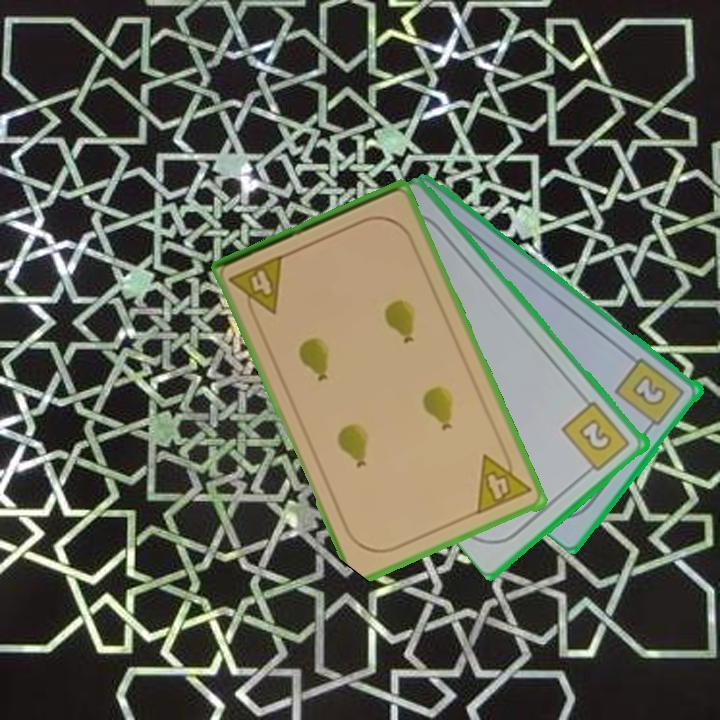2b: (612, 354, 689, 435), (559, 397, 634, 478)
4p: (472, 444, 534, 518), (225, 251, 287, 324)
